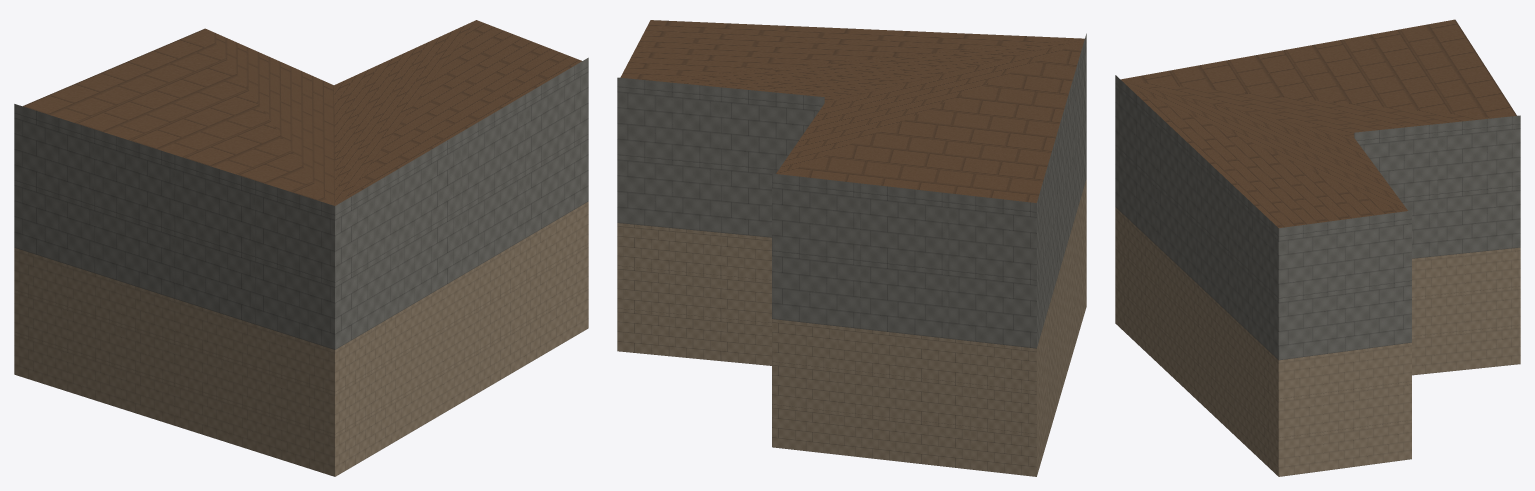
File: bld_c44_34_250.gltf
3 renders of one model, left to right at view 1: azimuth 30°, elevation 25°; view 2: azimuth 150°, elevation 25°; view 3: azimuth 270°, elevation 25°, orthographic. The views are drawn at different scales.
Visible parts, largest first — view 1: bld_c44_34_250; view 2: bld_c44_34_250; view 3: bld_c44_34_250.
Part boxes in pixels (left/top/right/bottom): bld_c44_34_250: left=14, top=20, right=588, bottom=476; bld_c44_34_250: left=617, top=20, right=1086, bottom=476; bld_c44_34_250: left=1115, top=19, right=1520, bottom=476.
Bounding box in the file's own units: 20.1 × 10.88 × 16.06.
Materials: 4 (4 with a texture image).
